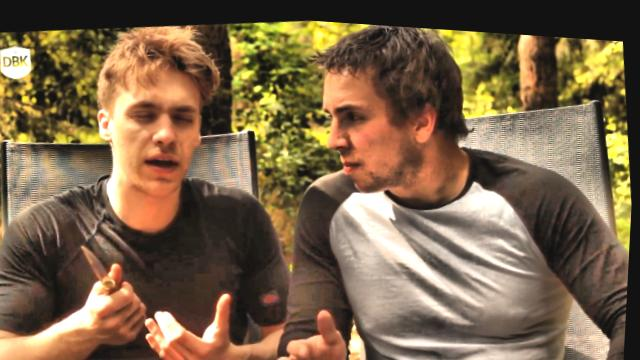knife: (74, 228, 153, 315)
